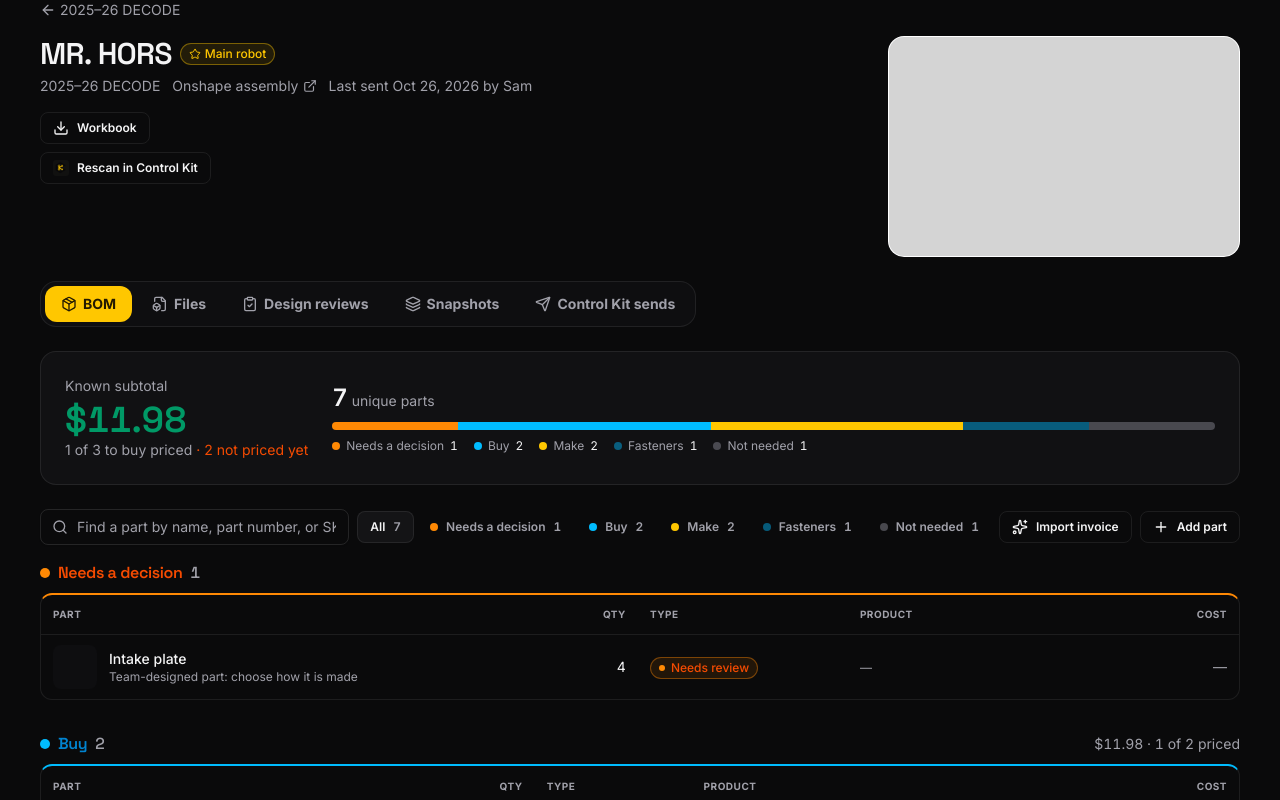
Test case: a robot's BOM › leaves the choices read-only for a role without Manage CAD
Click the button "Intake plate" at (148, 659), box x1=109 y1=649 x2=186 y2=669
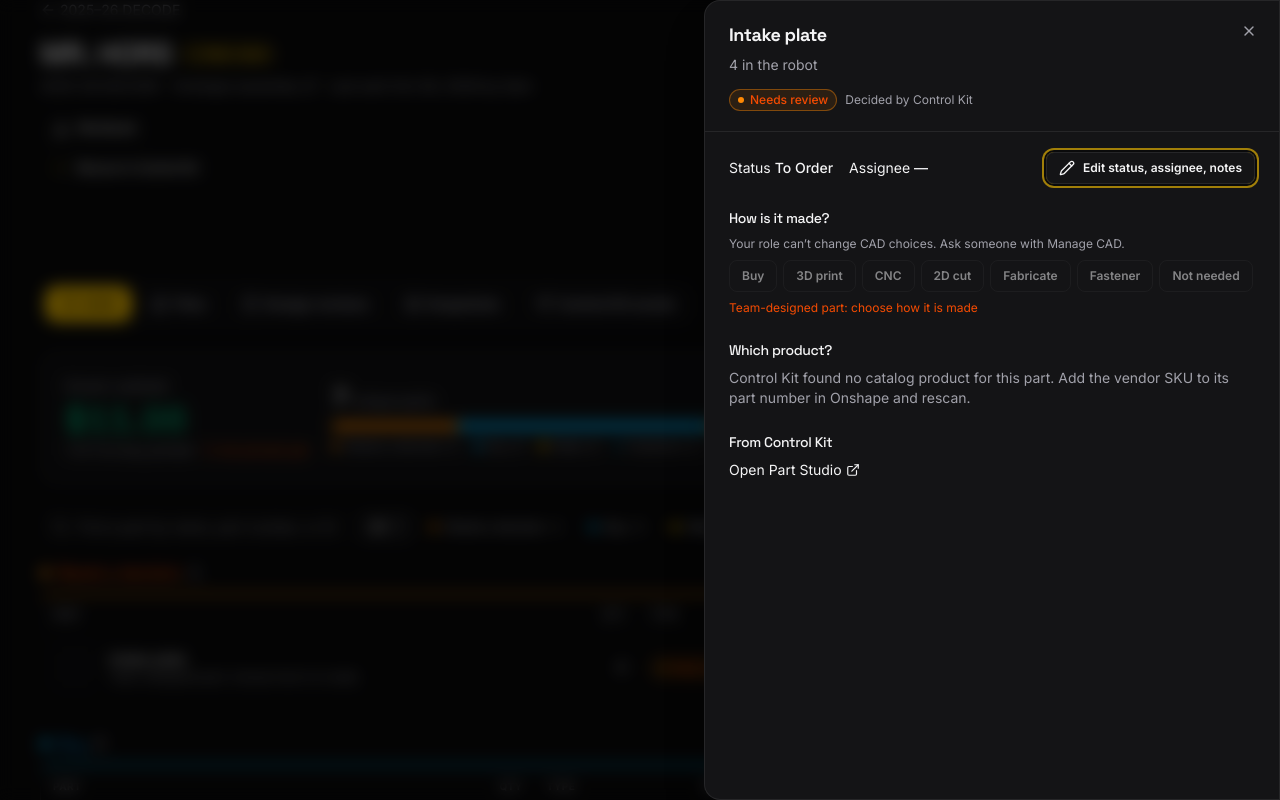
Check: the text "Your role can’t change CAD choices" is shown, box x1=729 y1=236 x2=1125 y2=251
Check: the button "3D print" is disabled, box x1=783 y1=260 x2=856 y2=292
